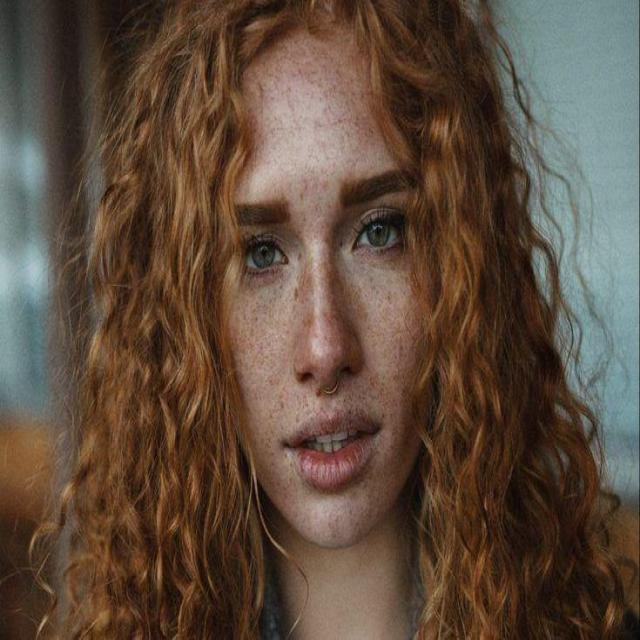freckle: (232, 268, 417, 422), (248, 57, 378, 173), (364, 425, 414, 508), (299, 174, 337, 263), (259, 423, 290, 494)
